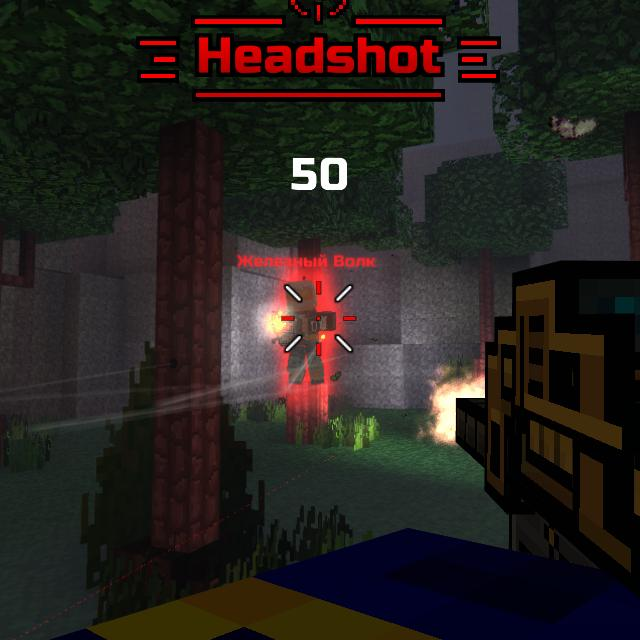Enemy: (267, 280, 336, 387)
